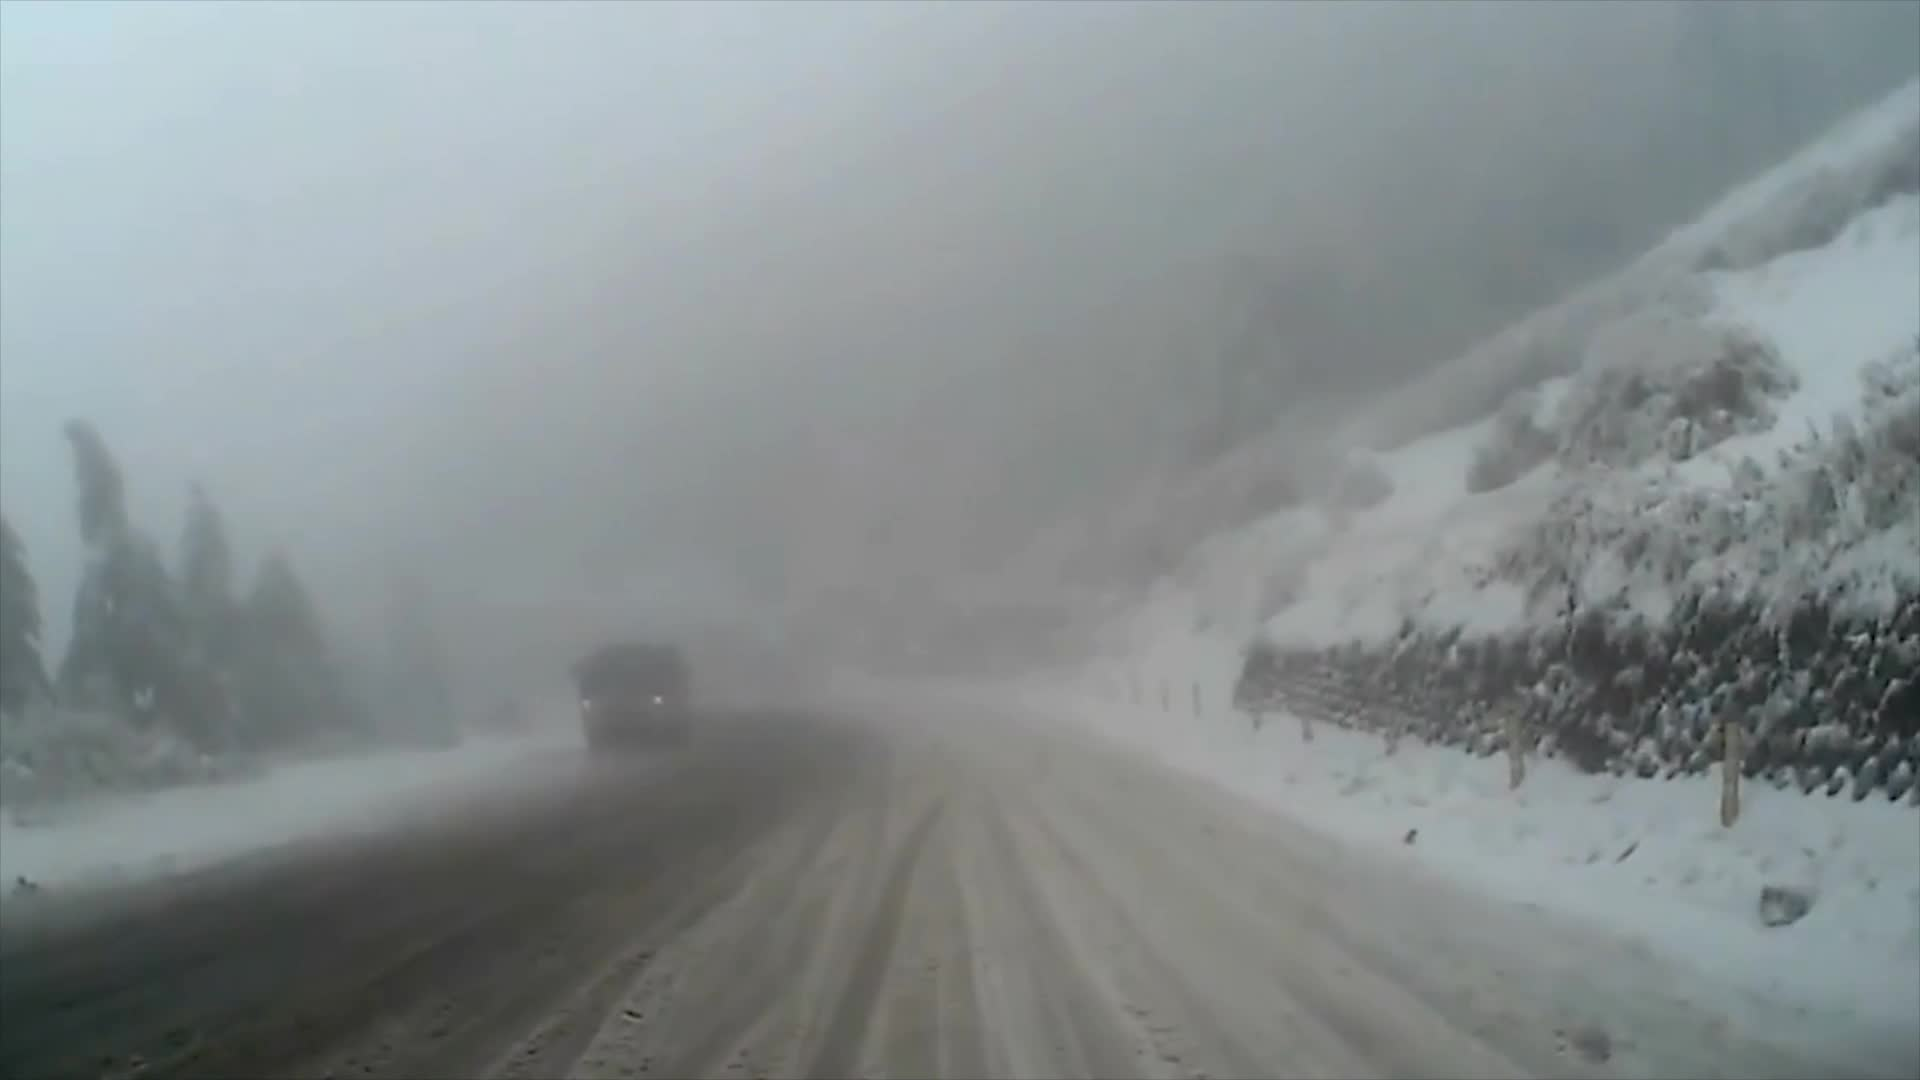vehicle: (566, 634, 691, 742)
